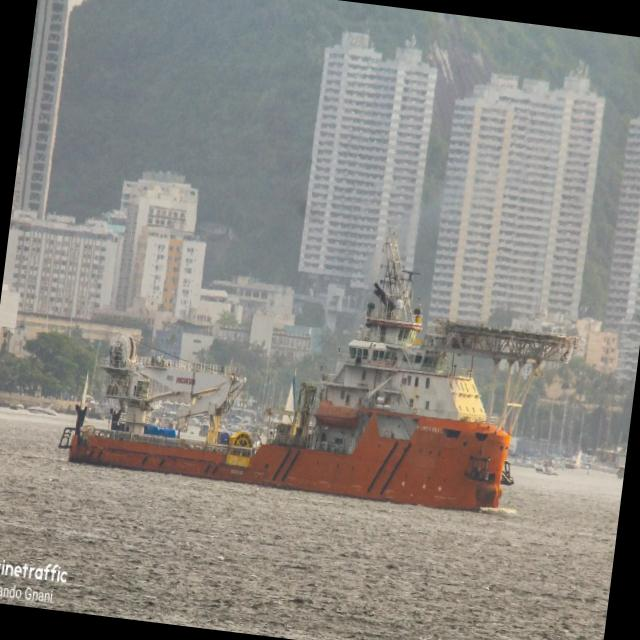Offshore: (69, 234, 576, 507)
